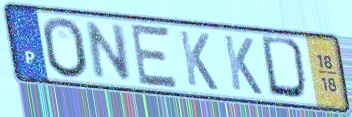D: (259, 33, 313, 104)
E: (129, 21, 181, 91)
K: (177, 28, 221, 94), (221, 33, 265, 98)
N: (85, 19, 134, 83)
O: (40, 15, 91, 81)
